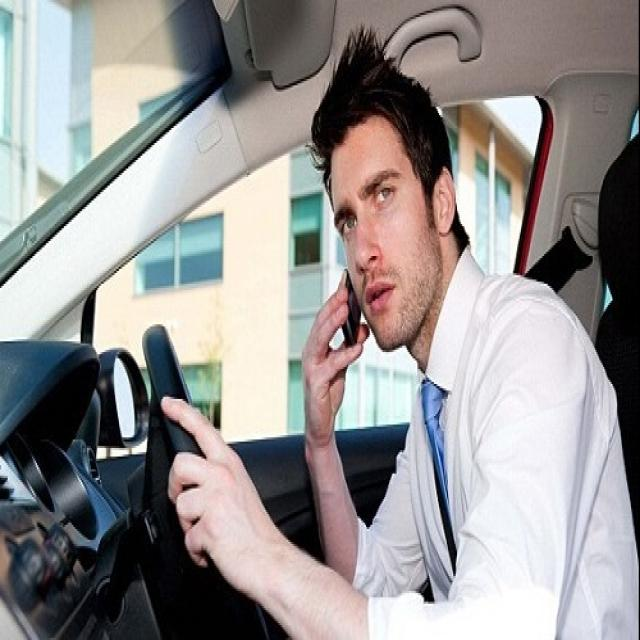phone: (289, 192, 382, 429)
